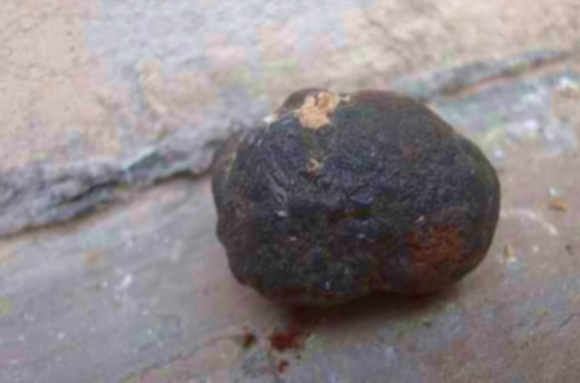halobolite: (193, 54, 524, 337)
